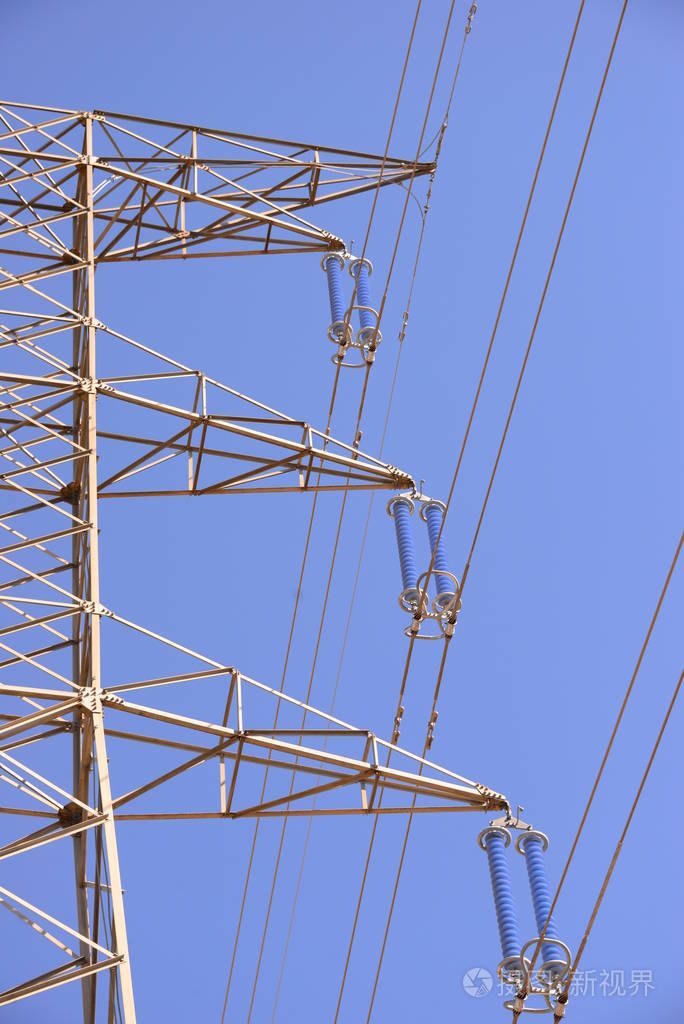insulator: (481, 836, 519, 960), (526, 838, 557, 966), (424, 505, 454, 603), (393, 494, 419, 594), (351, 261, 378, 325), (324, 253, 344, 328)
